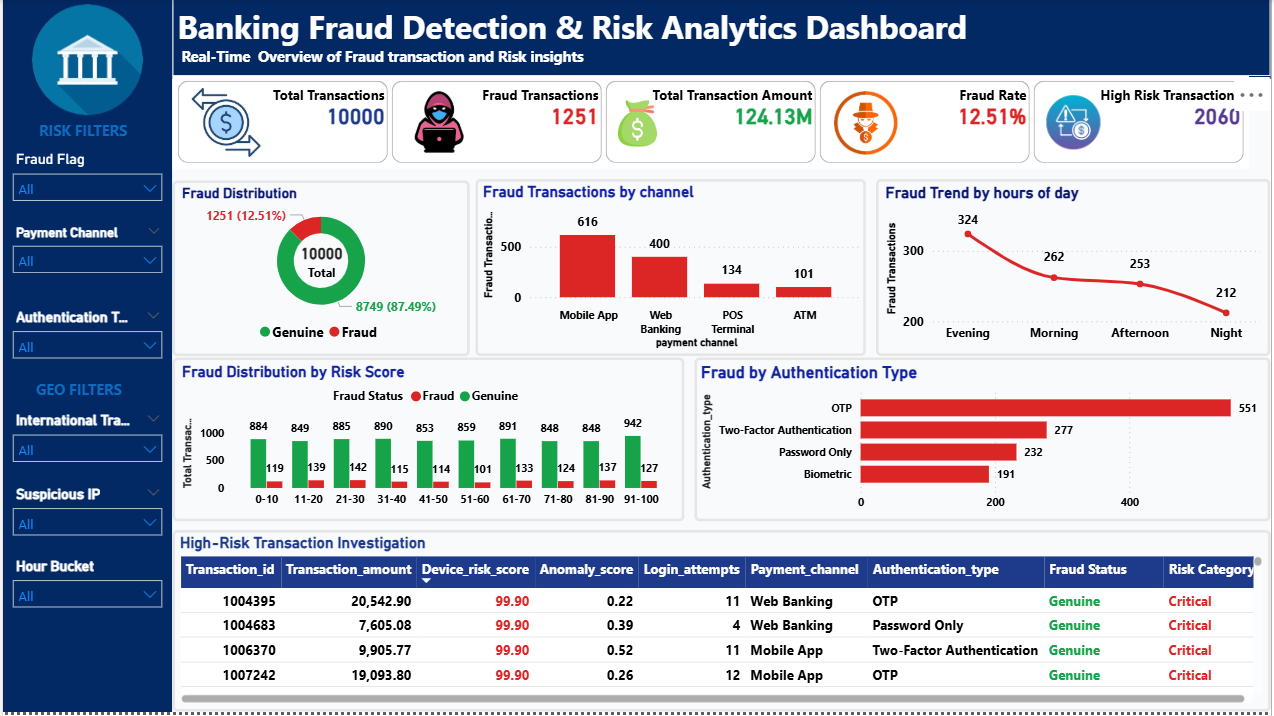

The dashboard page shown, as its layout file describes it:
{"tool":"powerbi","page":{"name":"Page 1","canvas":[1280,720],"ordinal":0},"visuals":[{"type":"shape","box":[0,0,1279.5,720.1],"z":0},{"type":"donutChart","title":"Fraud Distribution","fields":{"Category":["banking_transactions.Fraud Status"],"Y":["CountNonNull(banking_transactions.transaction_id)"]},"box":[171.1,183.2,299.8,177.2],"z":1000},{"type":"clusteredColumnChart","title":"Fraud Transactions by channel","fields":{"Category":["banking_transactions.payment_channel"],"Y":["banking_transactions.Fraud Transactions"]},"box":[470.9,183.2,398.2,178.7],"z":2000},{"type":"lineChart","title":"Fraud Trend by hours of day","fields":{"Y":["banking_transactions.Fraud Transactions"],"Category":["banking_transactions.Hour Bucket"]},"box":[881.3,183.2,398.2,178.7],"z":3000},{"type":"clusteredColumnChart","title":"Fraud Distribution by Risk Score","fields":{"Y":["banking_transactions.Total Transactions"],"Series":["banking_transactions.Fraud Status"],"Category":["banking_transactions.Risk Score Band"]},"box":[170.8,361.7,515.8,165.8],"z":4000},{"type":"cardVisual","fields":{"Data":["CountNonNull(banking_transactions.transaction_id)"]},"box":[286.2,236.2,71.2,59.1],"z":5000},{"type":"clusteredBarChart","title":"Fraud by Authentication Type","fields":{"Y":["banking_transactions.Fraud Transactions"],"Category":["banking_transactions.authentication_type"]},"box":[686.6,361.7,592.8,165.8],"z":6000},{"type":"tableEx","title":"High-Risk Transaction Investigation","fields":{"Values":["banking_transactions.transaction_id","banking_transactions.transaction_amount","banking_transactions.device_risk_score","banking_transactions.anomaly_score","banking_transactions.login_attempts","banking_transactions.payment_channel","banking_transactions.authentication_type","banking_transactions.Fraud Status","banking_transactions.Risk Category"]},"box":[170.8,527.5,1108.6,192.6],"z":7000},{"type":"shape","box":[0,0,170.8,720.1],"z":8000},{"type":"shape","box":[170.8,0,1108.6,80.4],"z":9000},{"type":"cardVisual","fields":{"Data":["banking_transactions.Total Transactions","banking_transactions.Fraud Transactions","Sum(banking_transactions.transaction_amount)","banking_transactions.Fraud Rate","banking_transactions.High Risk Transactions"]},"box":[170.8,77,1086.9,93.8],"z":10000},{"type":"image","box":[175.8,83.7,100.5,82.1],"z":11000},{"type":"image","box":[403.6,87.1,72,72],"z":12000},{"type":"image","box":[611.3,97.1,56.9,56.9],"z":13000},{"type":"image","box":[839,85.4,85.4,73.7],"z":14000},{"type":"image","box":[1034.9,88.8,63.6,73.7],"z":15000},{"type":"slicer","fields":{"Values":["banking_transactions.fraud_flag"]},"box":[0,149,170.8,68.7],"z":16000},{"type":"slicer","fields":{"Values":["banking_transactions.payment_channel"]},"box":[0,222.7,170.8,72],"z":17000},{"type":"slicer","fields":{"Values":["banking_transactions.authentication_type"]},"box":[0,308.1,170.8,70.3],"z":18000},{"type":"slicer","fields":{"Values":["banking_transactions.international_transaction_flag"]},"box":[0,412,170.8,73.7],"z":19000},{"type":"slicer","fields":{"Values":["banking_transactions.suspicious_ip_flag"]},"box":[0,485.7,170.8,73.7],"z":20000},{"type":"slicer","fields":{"Values":["banking_transactions.Hour Bucket"]},"box":[0,559.3,170.8,67],"z":21000},{"type":"textbox","box":[11.7,122.3,147.4,26.8],"z":22000},{"type":"textbox","box":[0,378.5,170.8,33.5],"z":23000},{"type":"textbox","box":[170.8,0,1108.6,77],"z":24000},{"type":"image","box":[0,0,170.8,122.3],"z":25000}]}

Visuals, with their boxes in screenshot pixels (x1, y1, x2, y2), scaled from the page's 1280x720 canvas onto the 1274x716 screenshot:
shape: bbox(0, 0, 1273, 715)
"Fraud Distribution" donutChart: bbox(170, 182, 469, 358)
"Fraud Transactions by channel" clusteredColumnChart: bbox(469, 182, 865, 360)
"Fraud Trend by hours of day" lineChart: bbox(877, 182, 1273, 360)
"Fraud Distribution by Risk Score" clusteredColumnChart: bbox(170, 360, 683, 525)
cardVisual - CountNonNull(banking_transactions.transaction_id): bbox(285, 235, 356, 294)
"Fraud by Authentication Type" clusteredBarChart: bbox(683, 360, 1273, 525)
"High-Risk Transaction Investigation" tableEx: bbox(170, 525, 1273, 715)
shape: bbox(0, 0, 170, 715)
shape: bbox(170, 0, 1273, 80)
cardVisual - banking_transactions.Total Transactions x banking_transactions.Fraud Transactions: bbox(170, 77, 1252, 170)
image: bbox(175, 83, 275, 165)
image: bbox(402, 87, 473, 158)
image: bbox(608, 97, 665, 153)
image: bbox(835, 85, 920, 158)
image: bbox(1030, 88, 1093, 162)
slicer - banking_transactions.fraud_flag: bbox(0, 148, 170, 216)
slicer - banking_transactions.payment_channel: bbox(0, 221, 170, 293)
slicer - banking_transactions.authentication_type: bbox(0, 306, 170, 376)
slicer - banking_transactions.international_transaction_flag: bbox(0, 410, 170, 483)
slicer - banking_transactions.suspicious_ip_flag: bbox(0, 483, 170, 556)
slicer - banking_transactions.Hour Bucket: bbox(0, 556, 170, 623)
textbox: bbox(12, 122, 158, 148)
textbox: bbox(0, 376, 170, 410)
textbox: bbox(170, 0, 1273, 77)
image: bbox(0, 0, 170, 122)
